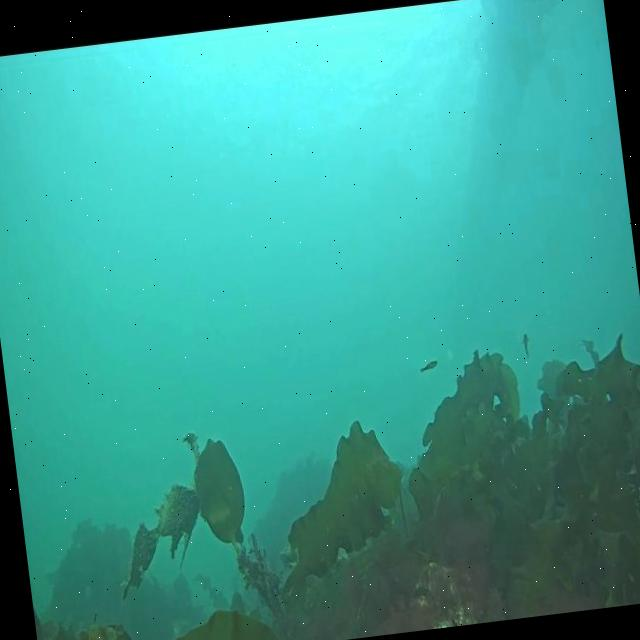fish: (418, 358, 438, 372), (520, 331, 530, 356)
